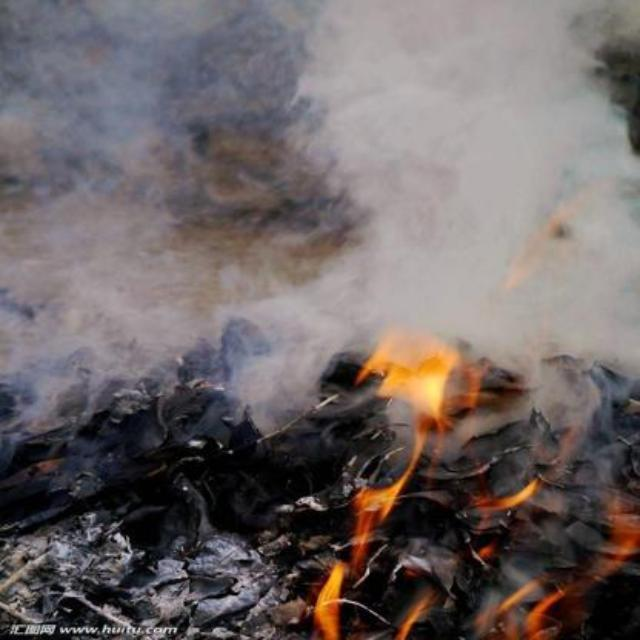Fire: (310, 332, 640, 640)
